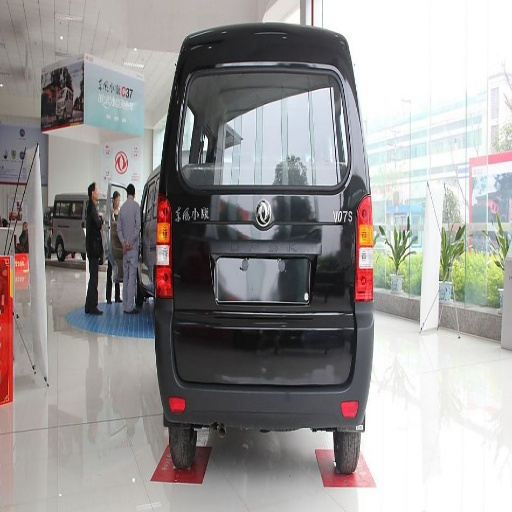back_bumper: (154, 299, 380, 425)
back_glass: (186, 51, 278, 180)
back_left_door: (308, 64, 338, 161)
back_right_light: (353, 193, 373, 303)
tailgate: (164, 162, 348, 324)
trunk: (182, 252, 354, 379)
